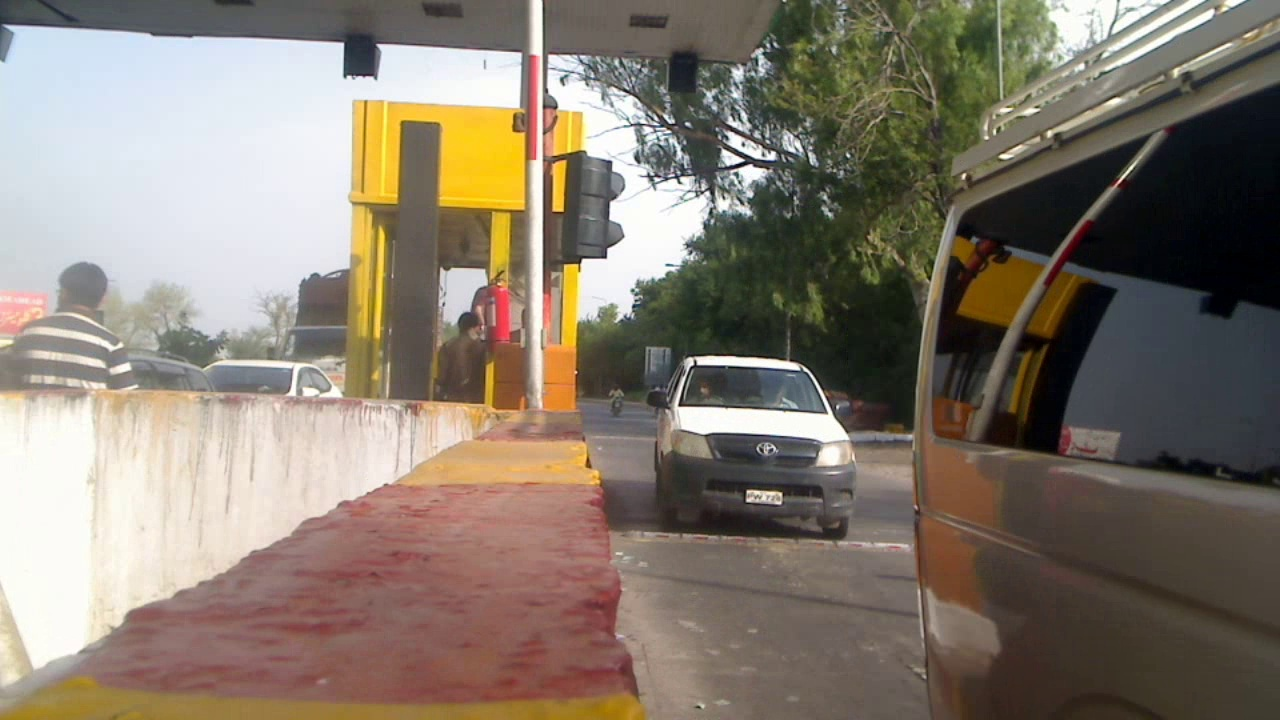Number Plate (Car): (748, 487, 783, 505)
